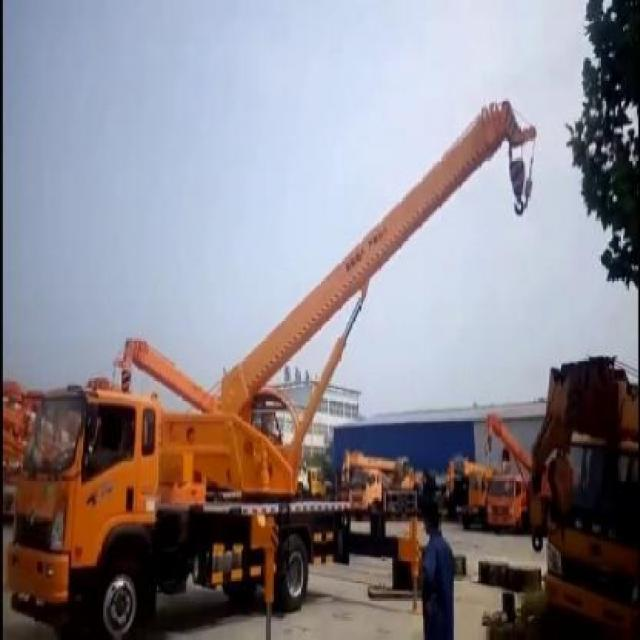Mobile Crane: (8, 92, 540, 636)
